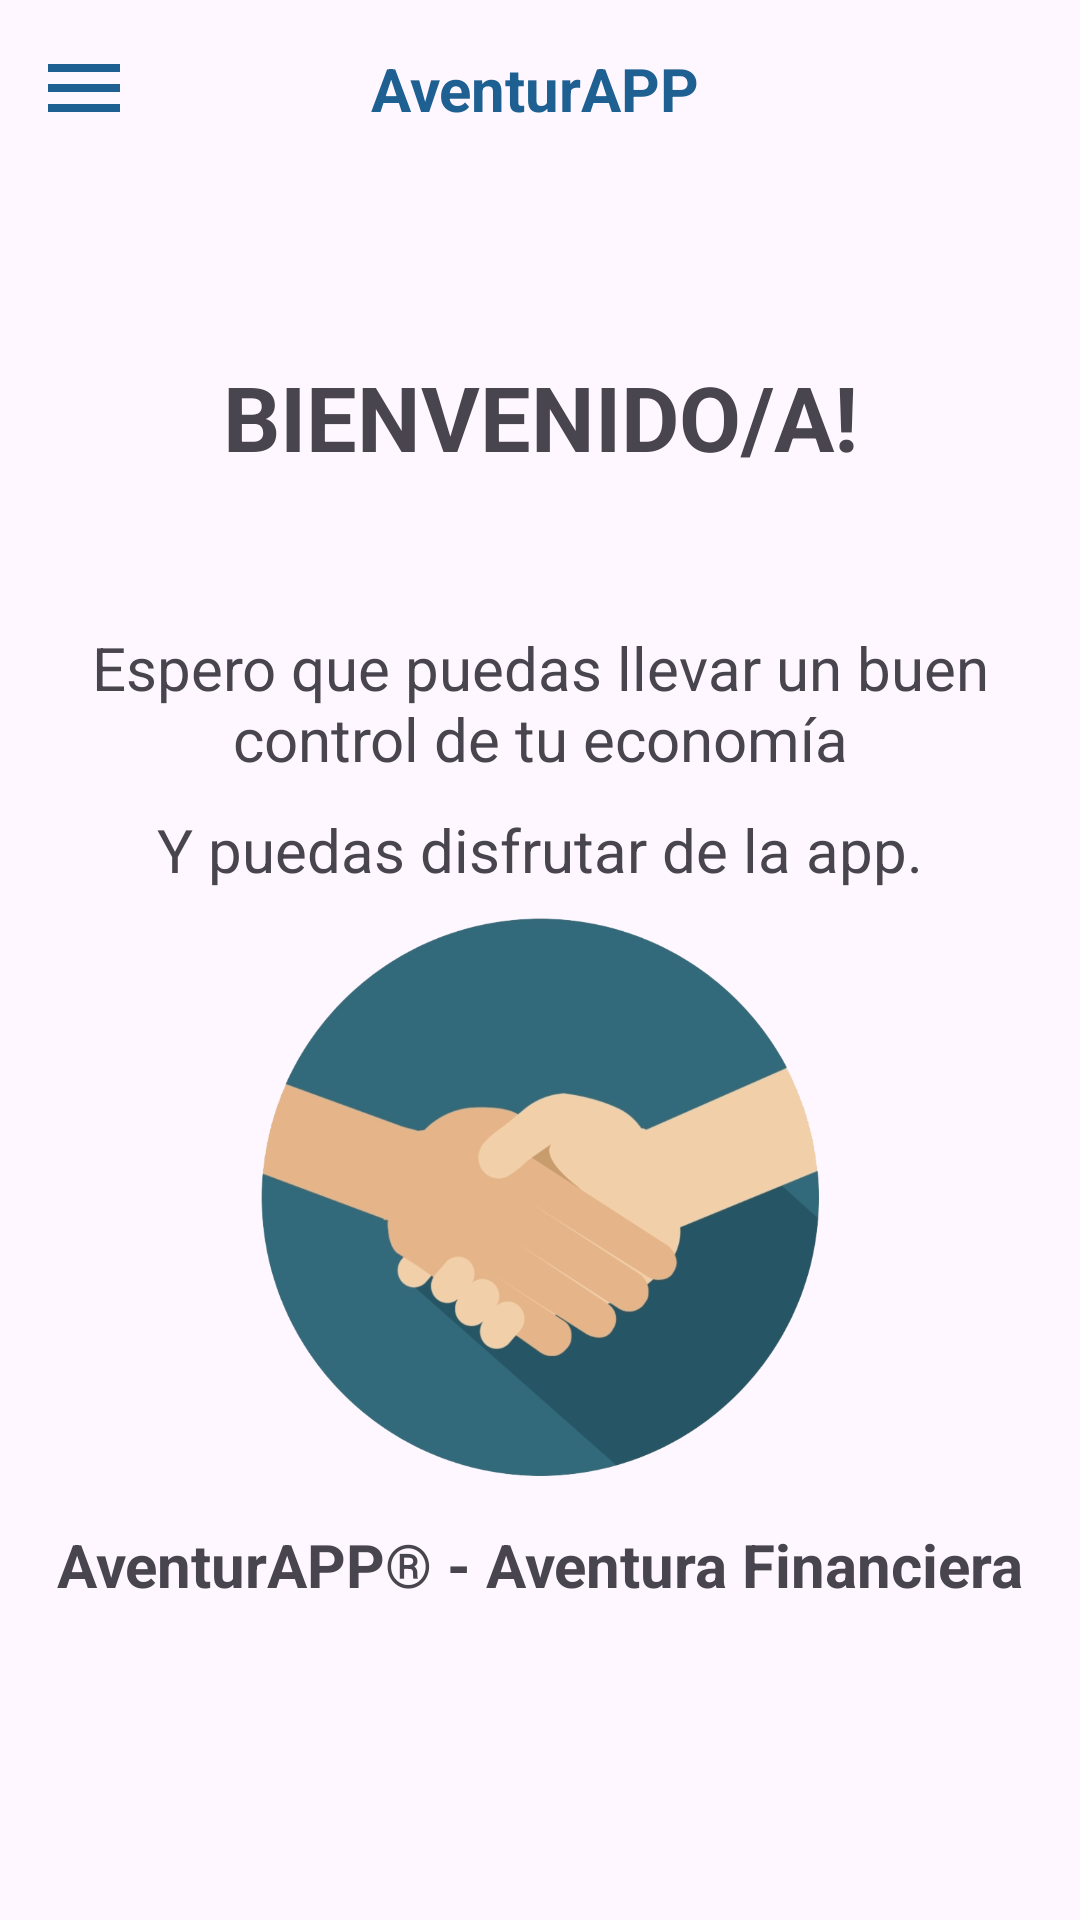

Icons on this 1080 × 1920 Android screen, each with the point to tap as [x,y]:
menu: [84,88]
